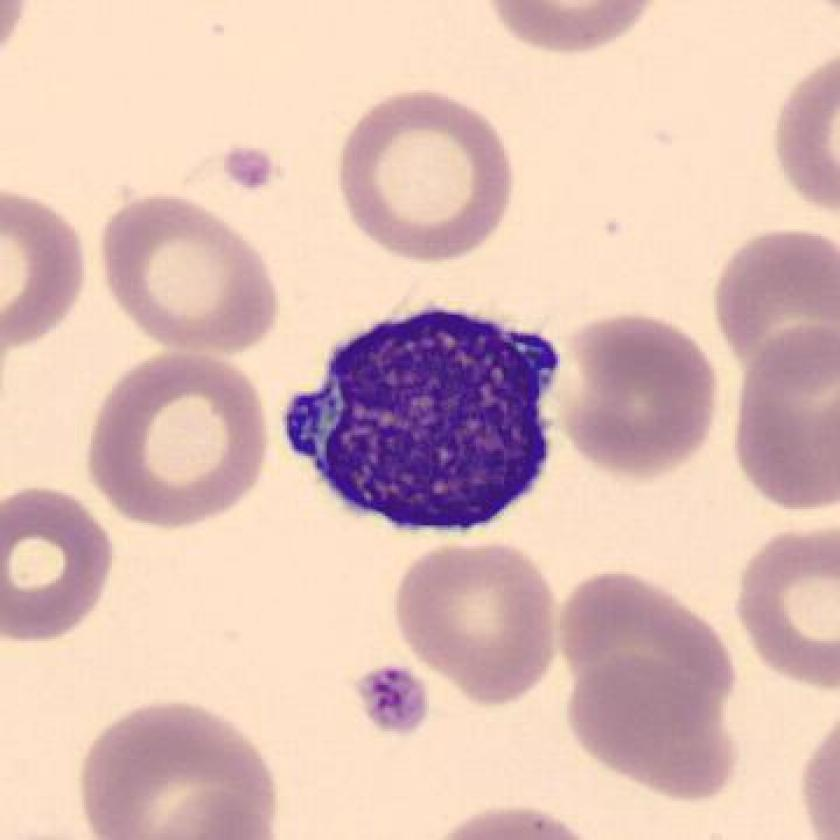lymphocyte: (260, 286, 584, 547)
platelets: (352, 665, 438, 740)
